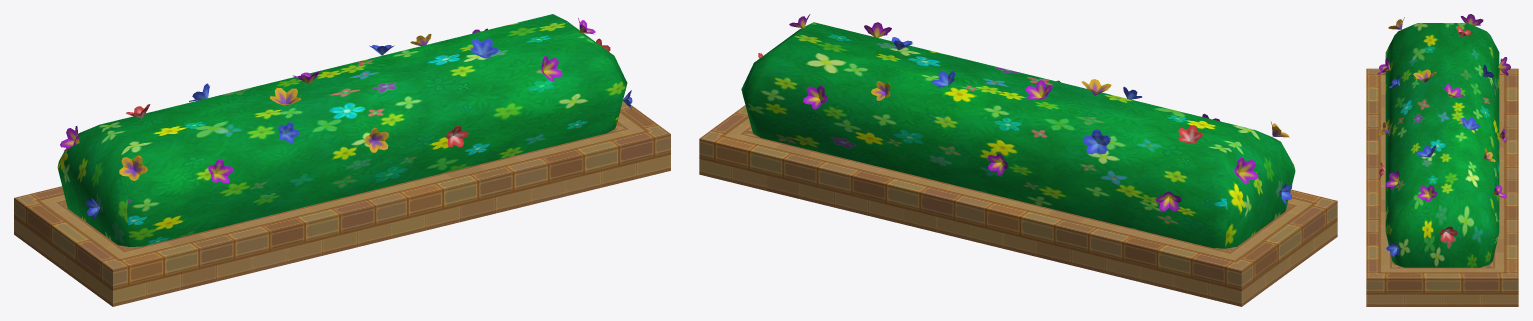
File: VEG0310040.fbx
3 views of the same model, side by side, from view 1: azimuth 30°, elevation 25°; view 2: azimuth 150°, elevation 25°; view 3: azimuth 270°, elevation 25° (orthographic). The views are drawn at different scales.
Visible parts, largest first — view 1: smVEG0310040; view 2: smVEG0310040; view 3: smVEG0310040.
Part boxes in pixels (x1,y1,x2,y2): smVEG0310040: (14,14,670,306); smVEG0310040: (699,14,1337,306); smVEG0310040: (1366,14,1518,306).
Size of the model in its own units: 297 by 69.03 by 91.
1 material, 1 textured.
